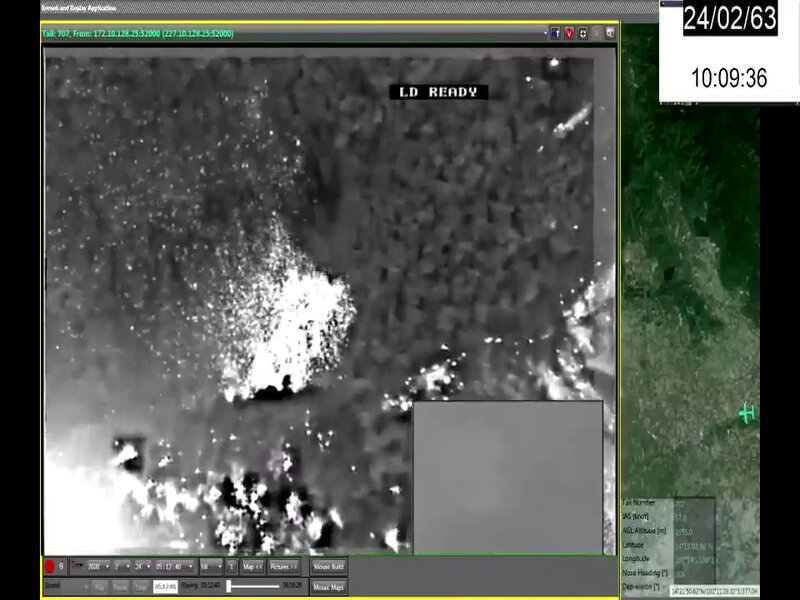Fire: (211, 214, 359, 408)
